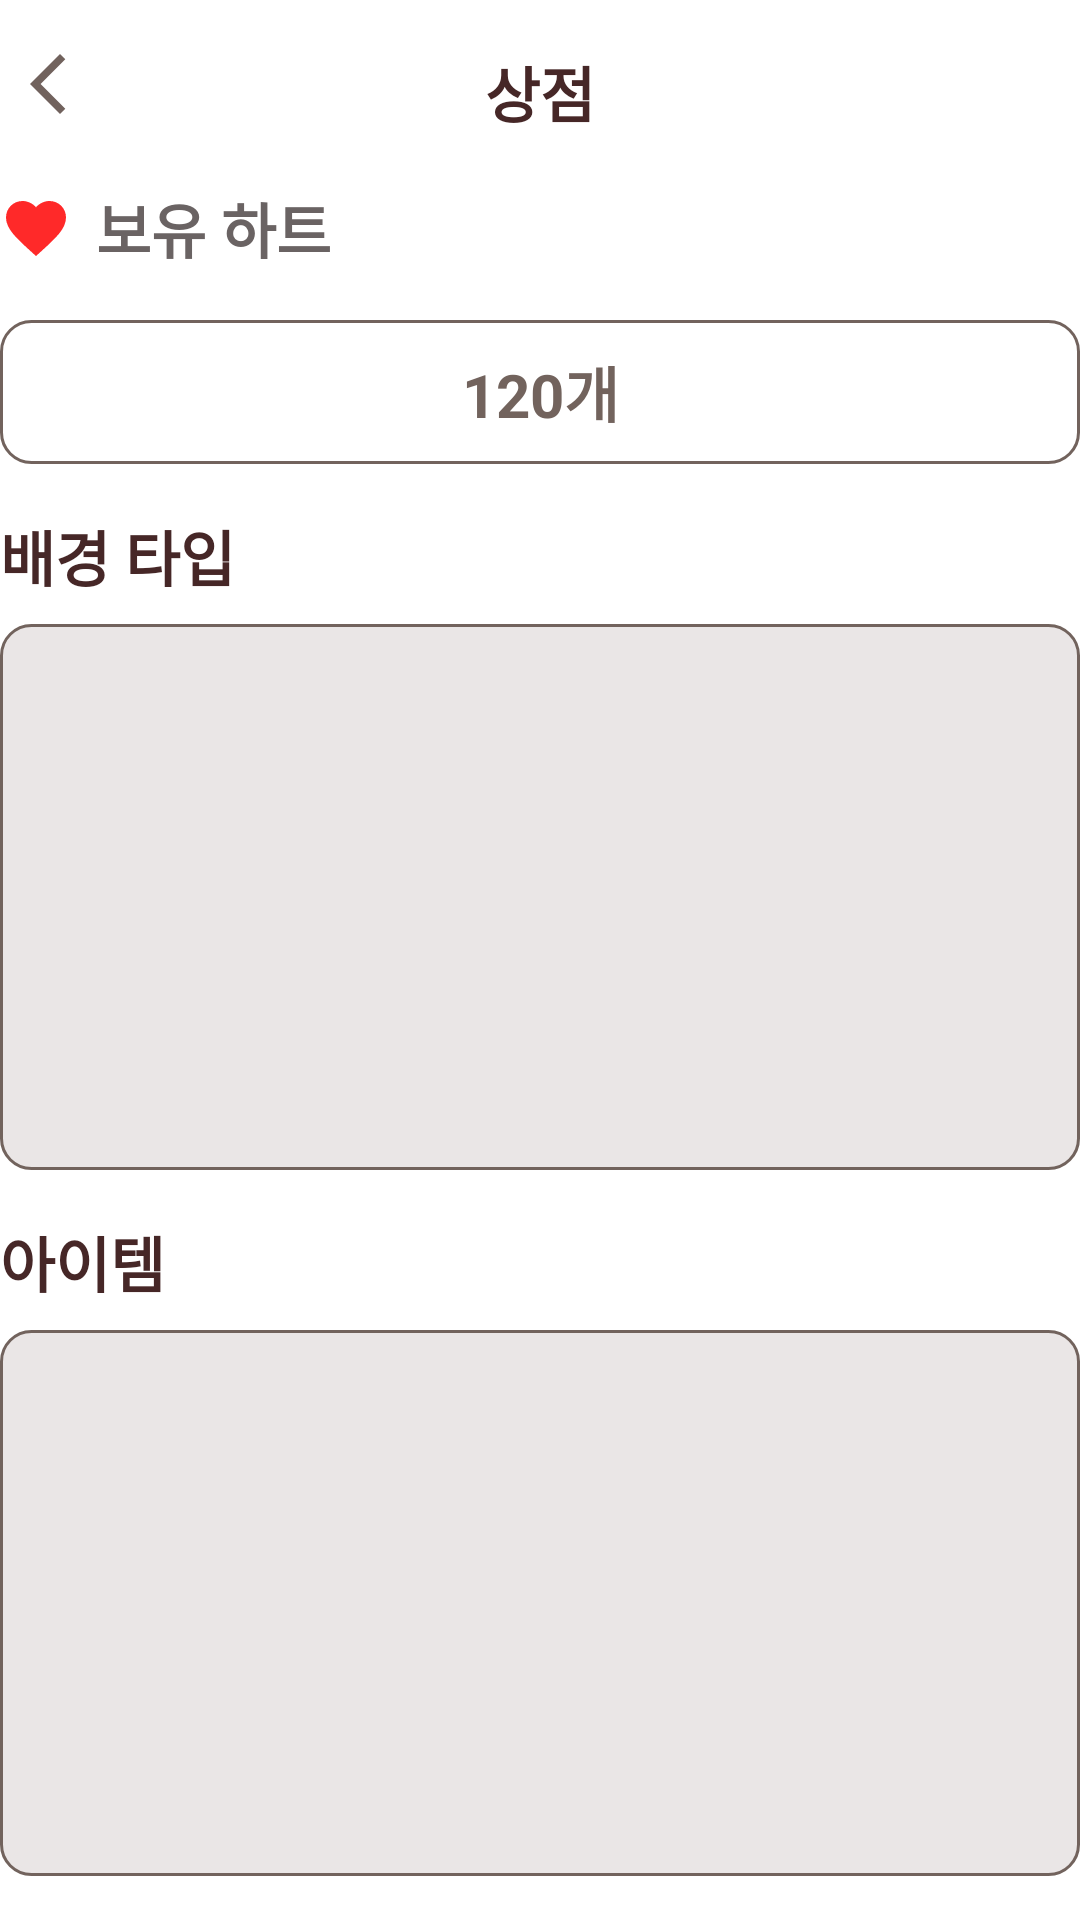

Icon bounding boxes for this 1080 x 1920 phone screenshot, format (x1, y1, x2, y2):
arrow back: (30, 54, 65, 114)
favorite: (6, 201, 66, 256)
